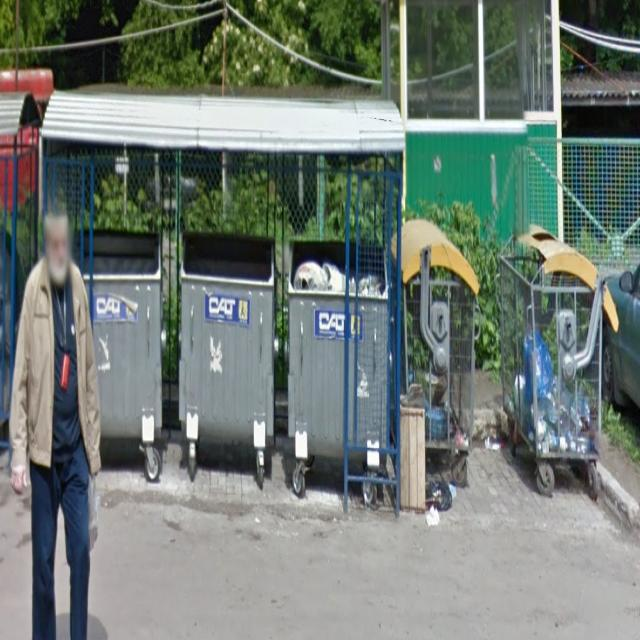general wastetrash bin: (284, 220, 401, 526), (177, 213, 283, 503), (92, 228, 174, 501)
plastic trash bin: (492, 197, 608, 544), (392, 212, 486, 530)
